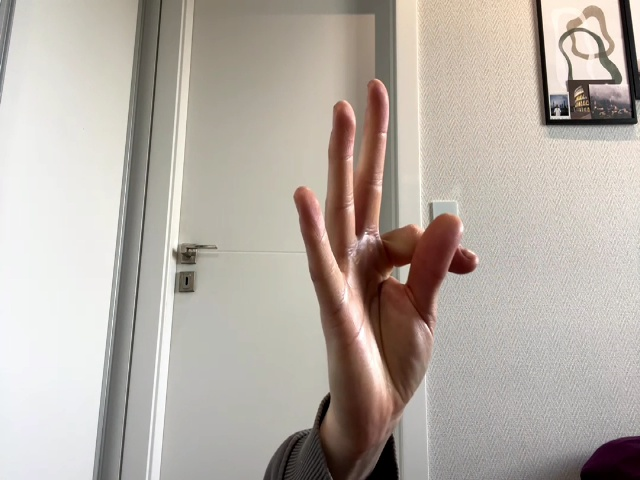T: (293, 78, 478, 406)
